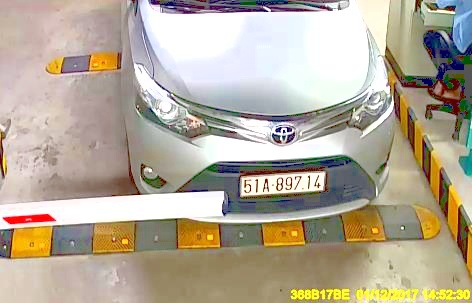plate: (235, 165, 329, 198)
